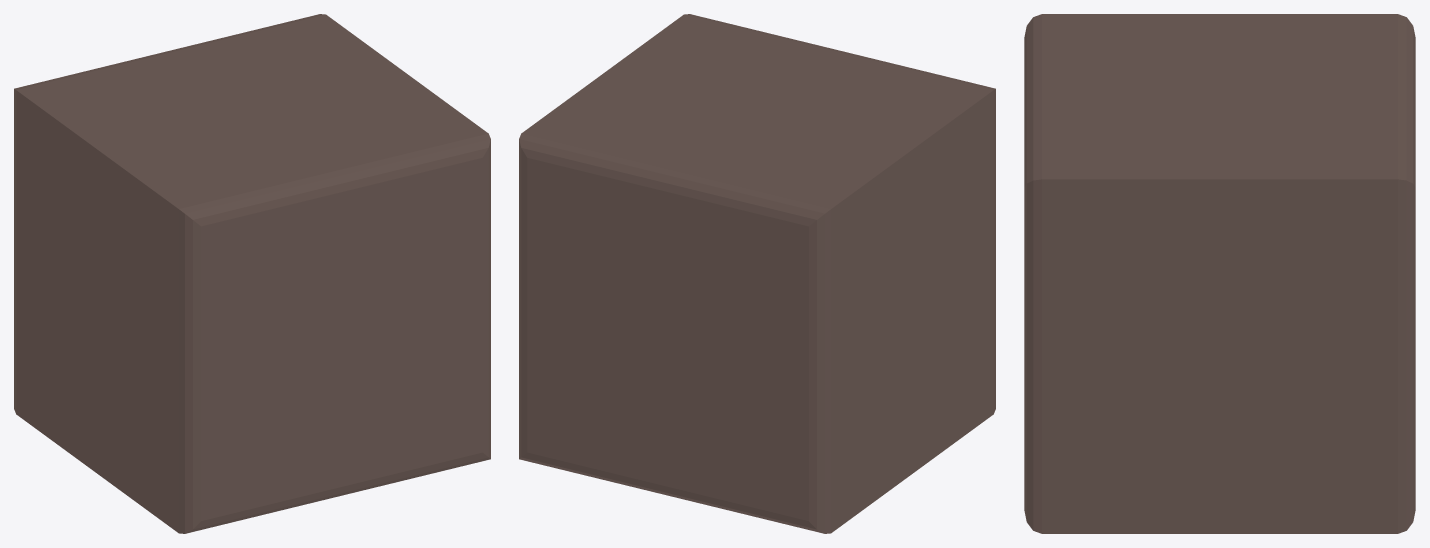
Rendered from crate_1_1.ol.glb.
3 renders of one model, left to right at view 1: azimuth 30°, elevation 25°; view 2: azimuth 150°, elevation 25°; view 3: azimuth 270°, elevation 25°, orthographic. The views are drawn at different scales.
Size of the model in its own units: 1.13 by 1.13 by 1.13.
